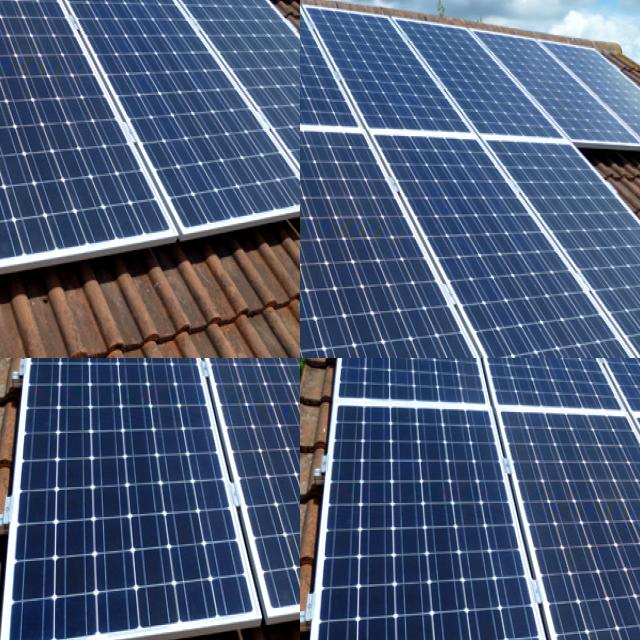bird: (95, 221, 300, 358), (0, 218, 135, 358)
crack: (325, 394, 571, 640), (487, 393, 640, 640), (459, 358, 636, 451), (338, 358, 496, 446), (558, 358, 640, 444)
